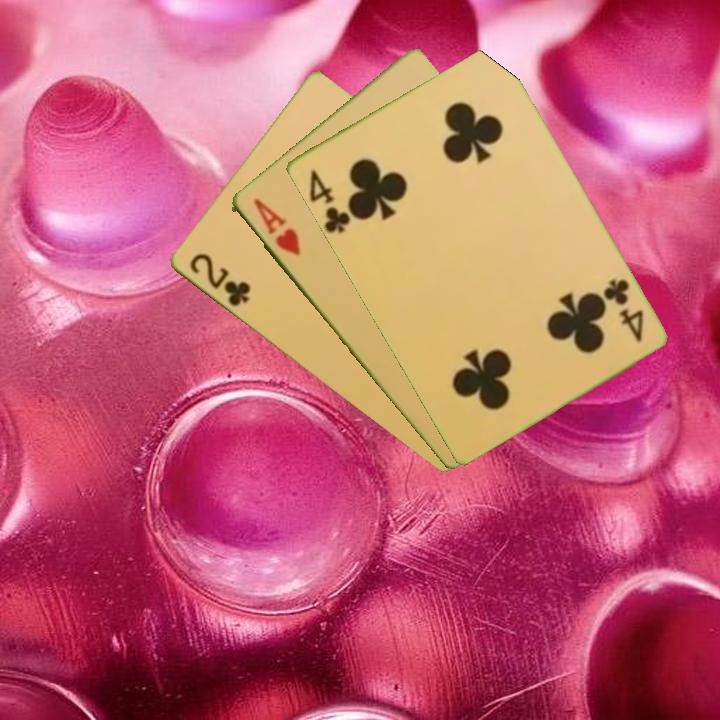2c: (185, 249, 253, 310)
4c: (305, 165, 353, 236), (599, 275, 646, 346)
Ah: (249, 194, 303, 259)
